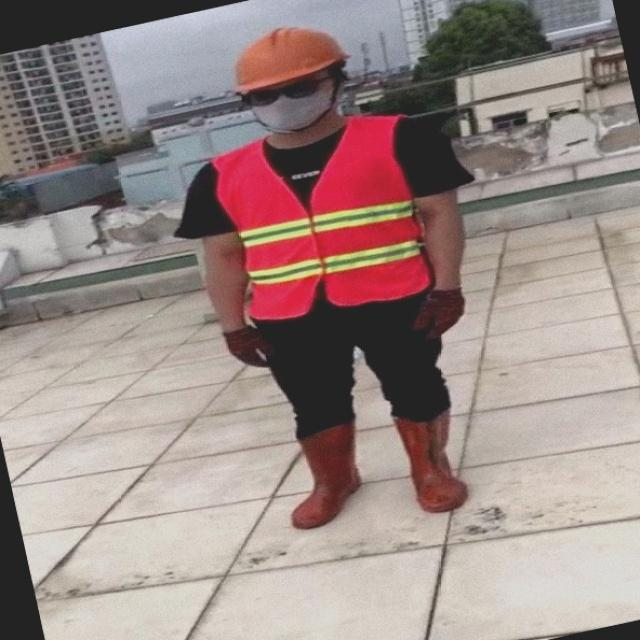helmet: (230, 27, 348, 92)
safety_vest: (207, 119, 439, 325)
